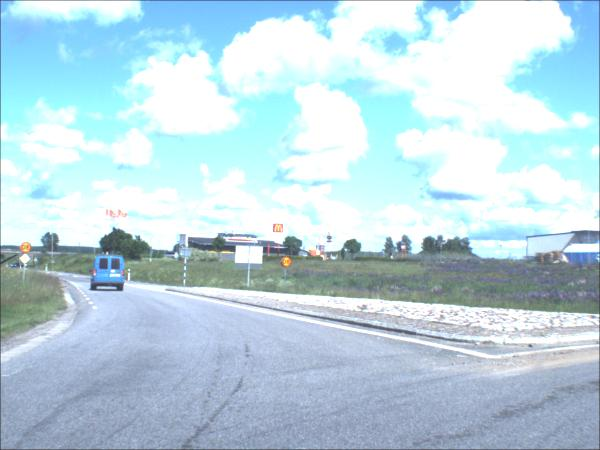80_SIGN: (19, 243, 32, 255), (281, 257, 292, 269)
PRIORITY_ROAD: (19, 254, 34, 267)
